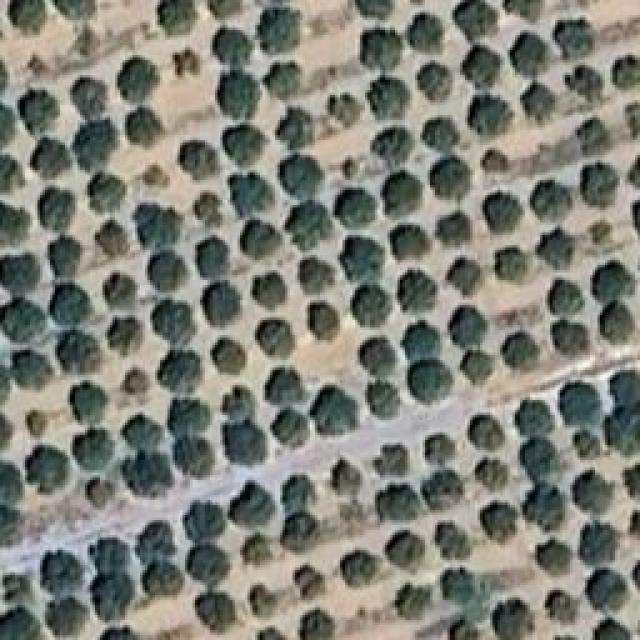Tree: (230, 482, 280, 529), (108, 52, 156, 100), (310, 388, 358, 436), (285, 200, 331, 250), (218, 70, 262, 120), (122, 453, 172, 497), (135, 205, 183, 250), (75, 123, 118, 173), (587, 565, 632, 612), (25, 445, 69, 493), (38, 553, 88, 595), (0, 297, 46, 342), (340, 238, 385, 284), (280, 155, 325, 200), (408, 360, 453, 405), (490, 595, 535, 640), (258, 8, 302, 54), (154, 348, 200, 392), (583, 160, 627, 205), (368, 75, 411, 121), (575, 473, 621, 516), (375, 483, 422, 525), (117, 413, 163, 455), (383, 170, 424, 217), (93, 575, 134, 622), (223, 423, 267, 466), (227, 170, 272, 212), (70, 75, 108, 124), (223, 125, 266, 168), (20, 93, 60, 139), (373, 128, 416, 170), (58, 333, 101, 375), (280, 473, 323, 515), (180, 503, 224, 544), (557, 380, 602, 420), (203, 283, 242, 329), (155, 303, 196, 346), (50, 283, 91, 326), (458, 0, 502, 40), (535, 178, 575, 222), (525, 482, 562, 529), (430, 158, 471, 200), (0, 253, 40, 296), (353, 285, 393, 328), (37, 187, 75, 232), (360, 382, 407, 418), (73, 430, 114, 471), (468, 93, 509, 134), (425, 470, 466, 511), (398, 270, 438, 312), (283, 513, 325, 553), (450, 305, 489, 348), (463, 45, 502, 88), (607, 407, 640, 457), (30, 138, 71, 178), (240, 220, 281, 260), (70, 383, 109, 425), (275, 108, 314, 150), (335, 190, 378, 228), (7, 0, 56, 33), (148, 250, 187, 291), (550, 320, 592, 358), (485, 190, 522, 233), (557, 20, 603, 54), (180, 140, 219, 180), (88, 172, 127, 212), (143, 560, 183, 599), (583, 523, 623, 562), (360, 33, 401, 71), (370, 443, 409, 482), (48, 600, 88, 638), (198, 590, 236, 630), (218, 383, 256, 423), (435, 523, 472, 564), (600, 303, 634, 347), (258, 320, 297, 358), (135, 523, 174, 561), (168, 400, 207, 438), (388, 533, 427, 571), (265, 368, 305, 405), (493, 250, 535, 285), (48, 235, 82, 278), (263, 63, 302, 100), (480, 503, 517, 542), (273, 408, 309, 448), (513, 400, 553, 436), (195, 238, 229, 280), (15, 353, 52, 391), (360, 338, 398, 375), (190, 548, 228, 585), (538, 535, 574, 574), (213, 27, 253, 62), (108, 317, 143, 357), (408, 12, 443, 52), (448, 257, 483, 297), (390, 225, 430, 260), (125, 105, 165, 140), (173, 440, 213, 475), (513, 35, 551, 71), (595, 263, 633, 299), (523, 435, 557, 475), (545, 585, 579, 625), (395, 587, 437, 619), (253, 273, 289, 310), (418, 62, 452, 101), (293, 565, 330, 600), (95, 220, 129, 258), (443, 565, 477, 603), (90, 543, 133, 573), (610, 368, 640, 411), (402, 320, 441, 353), (0, 570, 31, 611), (0, 203, 30, 245), (435, 212, 471, 247), (540, 233, 575, 269), (422, 120, 460, 153), (473, 457, 511, 490), (568, 65, 602, 101), (327, 90, 360, 127), (300, 612, 343, 640), (460, 350, 494, 385), (240, 533, 274, 568), (343, 550, 377, 585), (570, 427, 606, 460), (0, 608, 37, 640), (160, 0, 198, 31), (548, 282, 582, 316), (505, 333, 539, 367), (103, 272, 136, 307), (333, 456, 360, 498), (0, 457, 25, 502), (423, 435, 458, 467), (477, 142, 509, 176), (472, 417, 506, 449), (303, 260, 334, 295), (310, 303, 339, 340), (215, 338, 244, 374), (580, 118, 610, 152), (193, 192, 222, 227), (525, 83, 552, 120), (250, 585, 279, 618), (0, 504, 22, 546), (0, 155, 24, 193), (585, 218, 615, 248), (85, 477, 114, 507), (593, 620, 633, 640), (25, 408, 53, 436), (447, 617, 480, 640), (122, 368, 150, 395), (172, 50, 200, 77), (507, 0, 546, 19), (625, 100, 640, 148), (617, 54, 640, 84), (355, 0, 392, 18), (57, 0, 96, 17), (620, 463, 640, 496), (142, 165, 170, 187), (0, 108, 16, 146), (208, 0, 241, 18), (340, 155, 362, 181), (100, 627, 135, 640), (257, 625, 285, 640)
